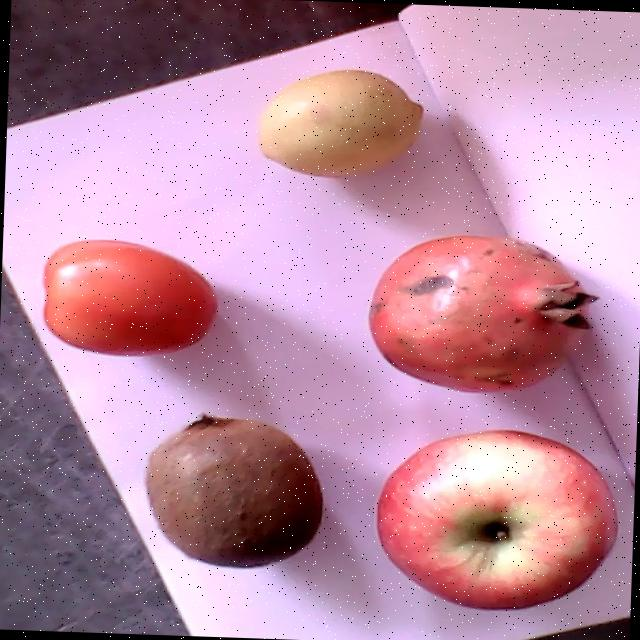apple: (377, 429, 617, 607)
kiwi: (146, 412, 322, 565)
lemon: (256, 69, 420, 176)
pomegranate: (369, 235, 598, 394)
tomato: (41, 238, 216, 354)
